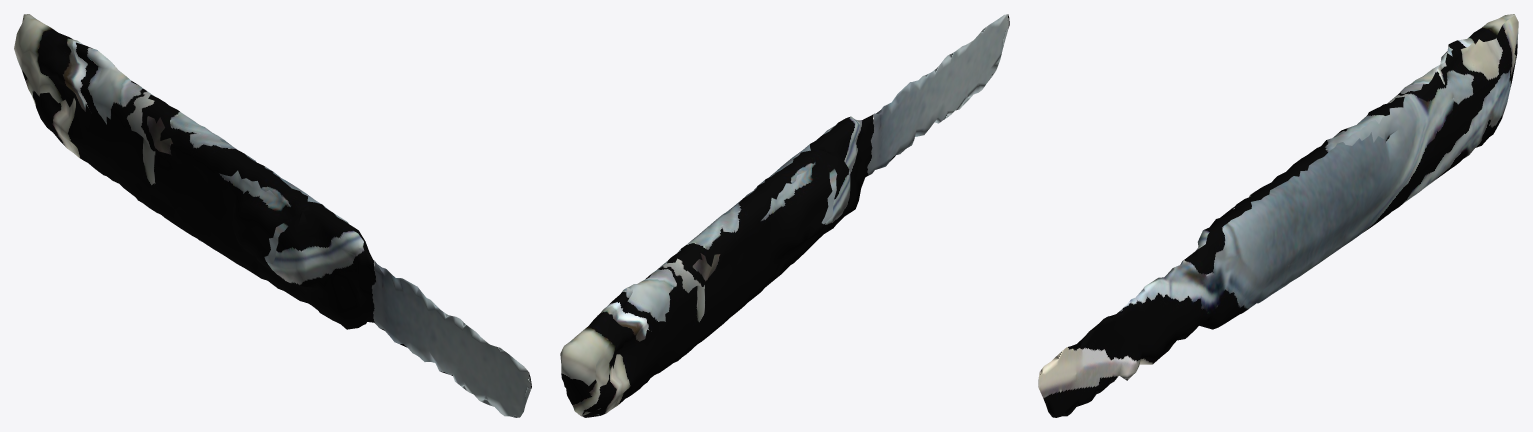
File: scan_align.obj
3 renders of one model, left to right at view 1: azimuth 30°, elevation 25°; view 2: azimuth 150°, elevation 25°; view 3: azimuth 330°, elevation 25°, orthographic. The views are drawn at different scales.
Bounding box in the file's own units: 0.0134 × 0.0295 × 0.2243.
